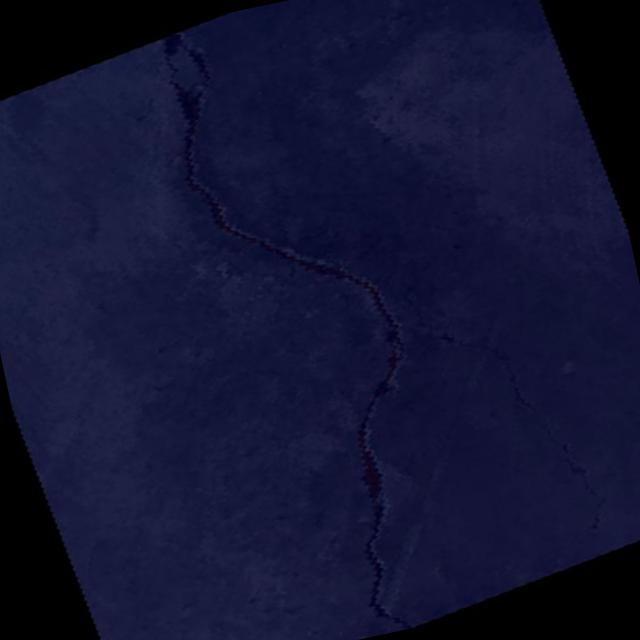crack: (131, 0, 504, 640), (380, 224, 627, 603)
